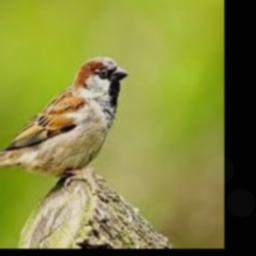Sparrow: (0, 55, 129, 189)
